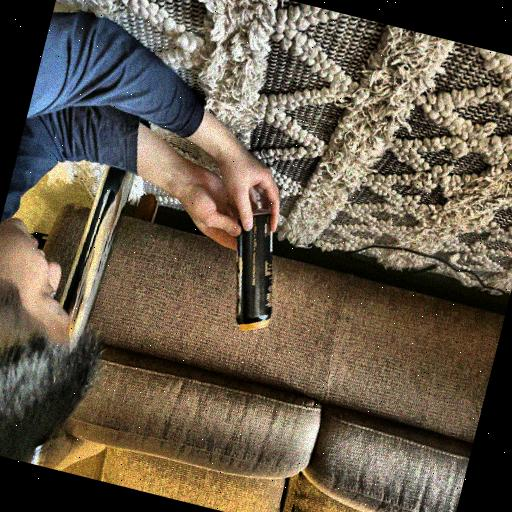karhu: (207, 190, 302, 348)
